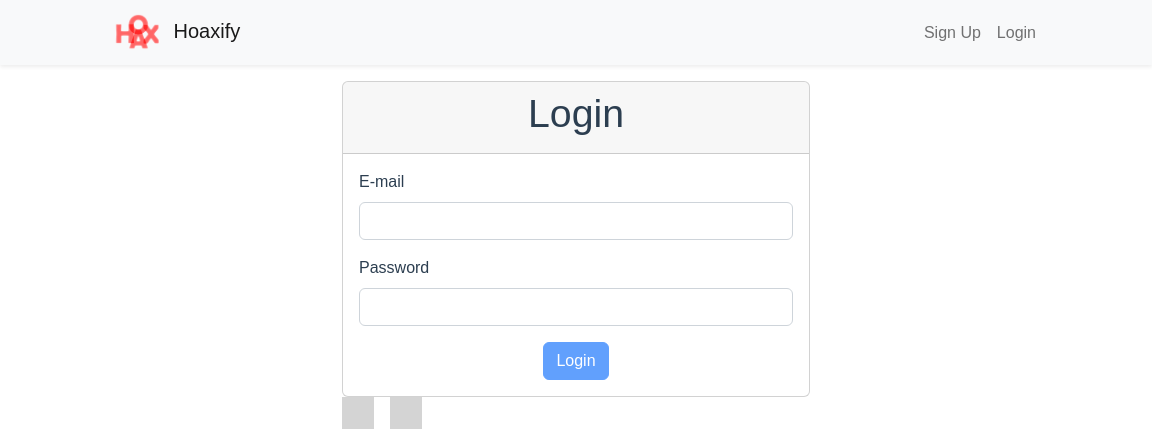
Login › redirects to homepage after successful login
The image size is (1152, 446).
Step 1. Type "user5@mail.com" into the field labelled "E-mail" → (576, 221), box [359,202,793,240]
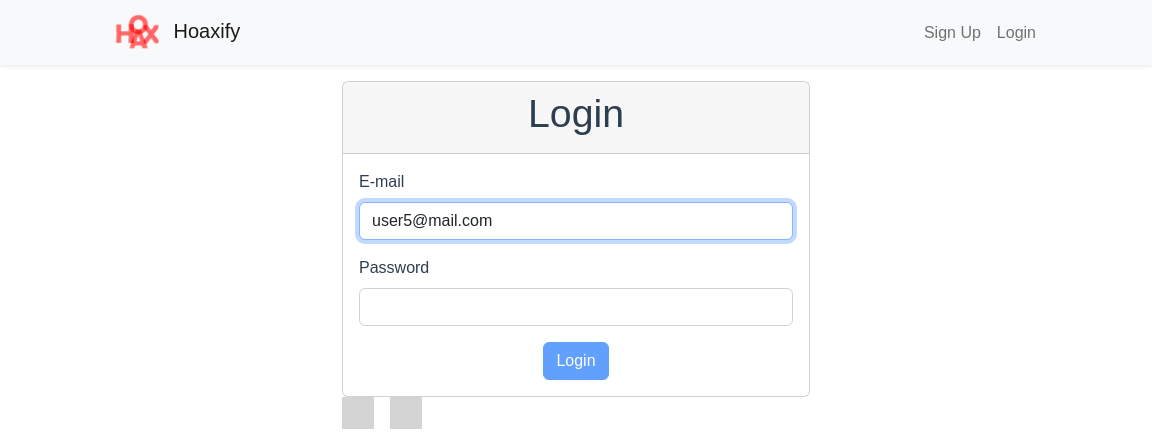
Step 2. Type "P4ssword" into the password field labelled "Password" → (576, 307), box [359,288,793,326]
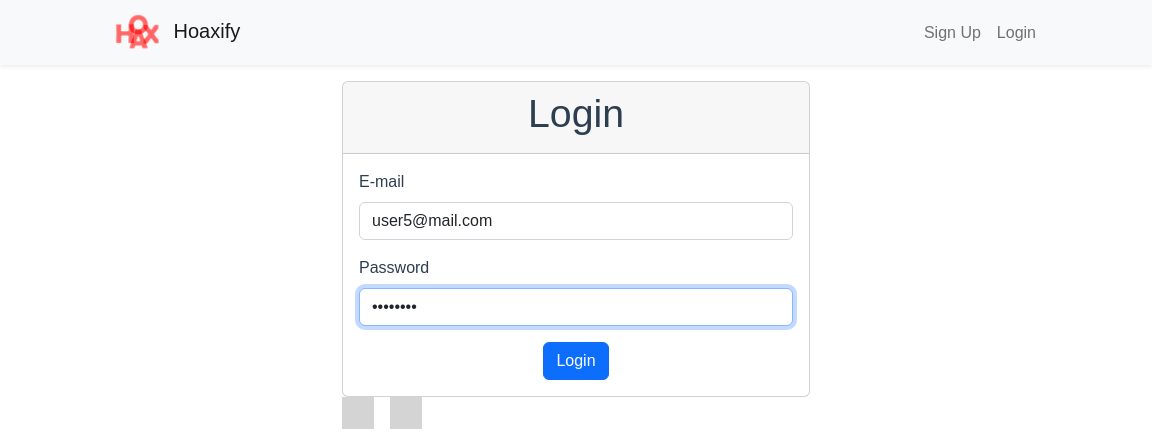
Step 3. Click the button "Login" → (576, 361), box [543,342,609,380]
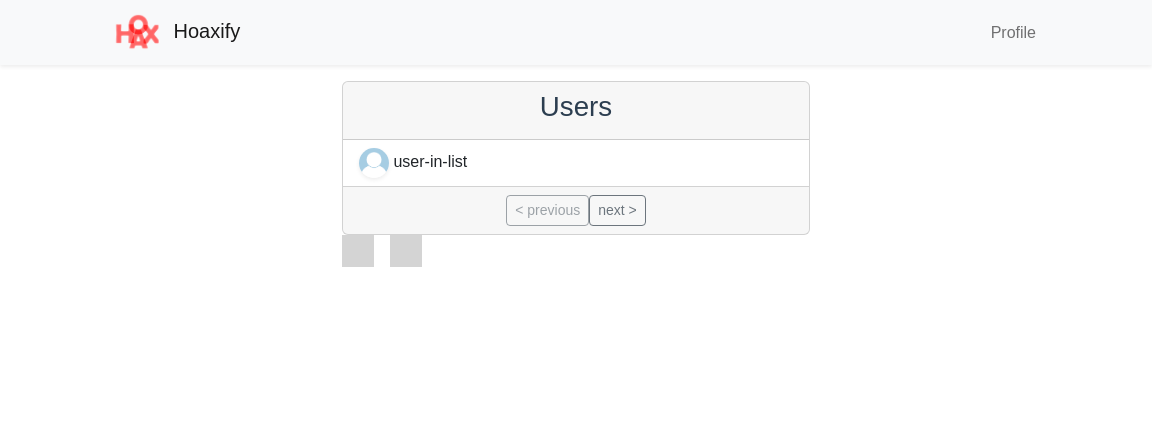
Result: the element with test id "home-page" is shown at [342,81,810,236]
